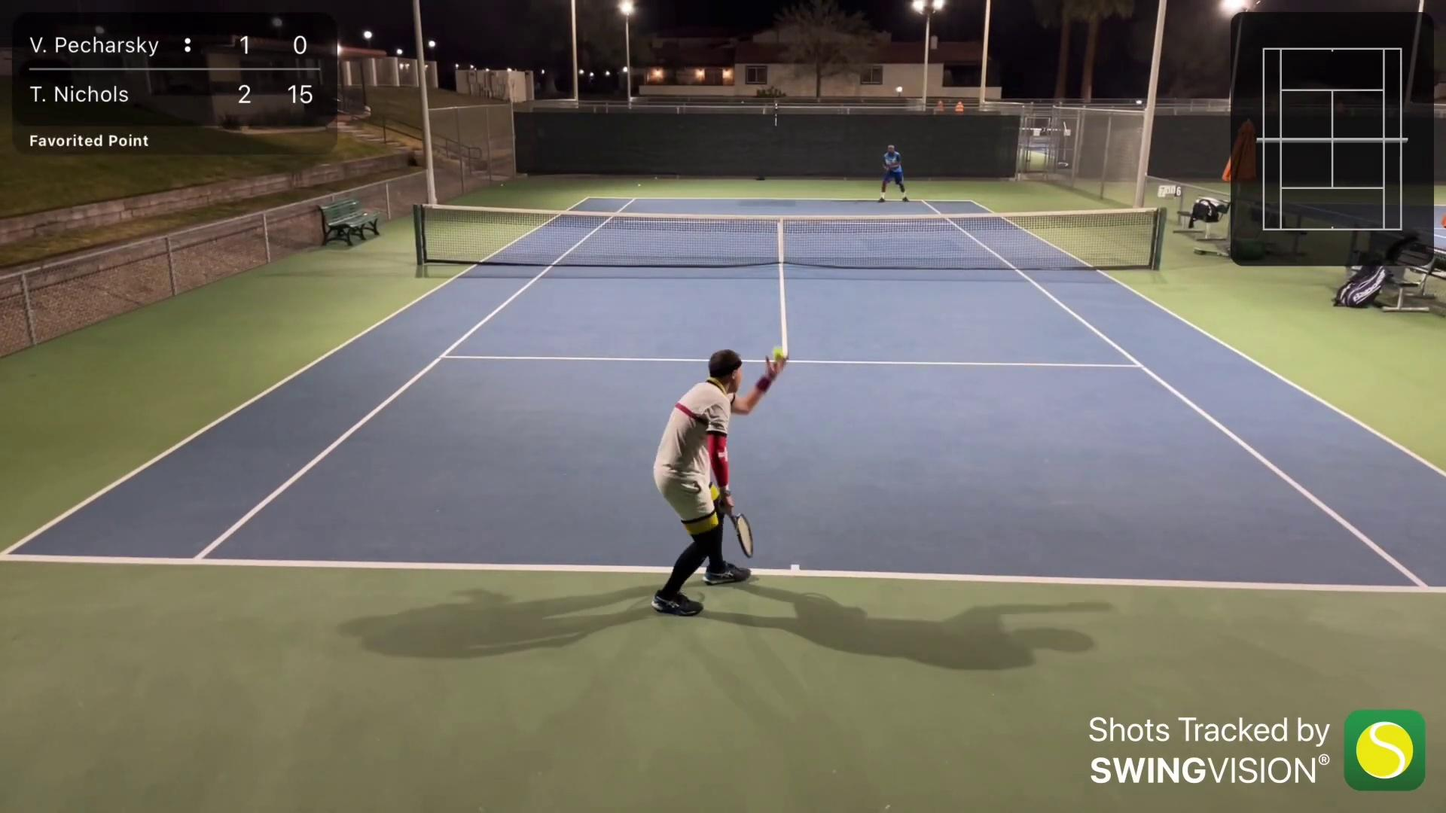ball: (767, 344, 793, 364)
